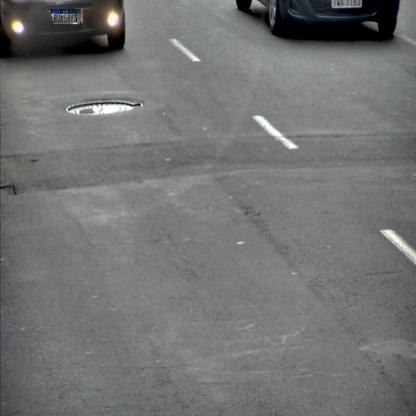PlacaM: (51, 9, 81, 25)
